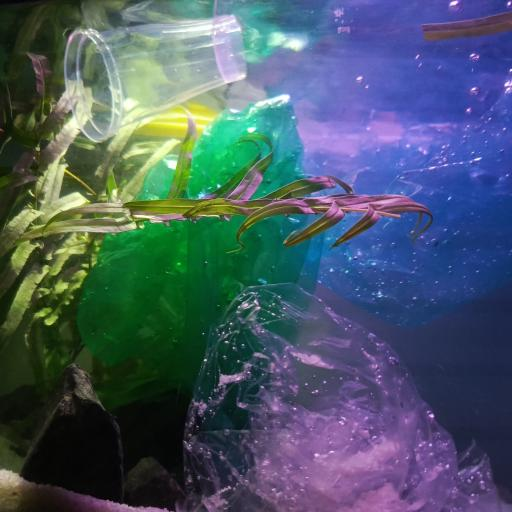plastic_bag: (258, 2, 509, 328), (77, 94, 317, 403), (177, 283, 506, 508)
plastic_cup: (65, 15, 249, 142)
